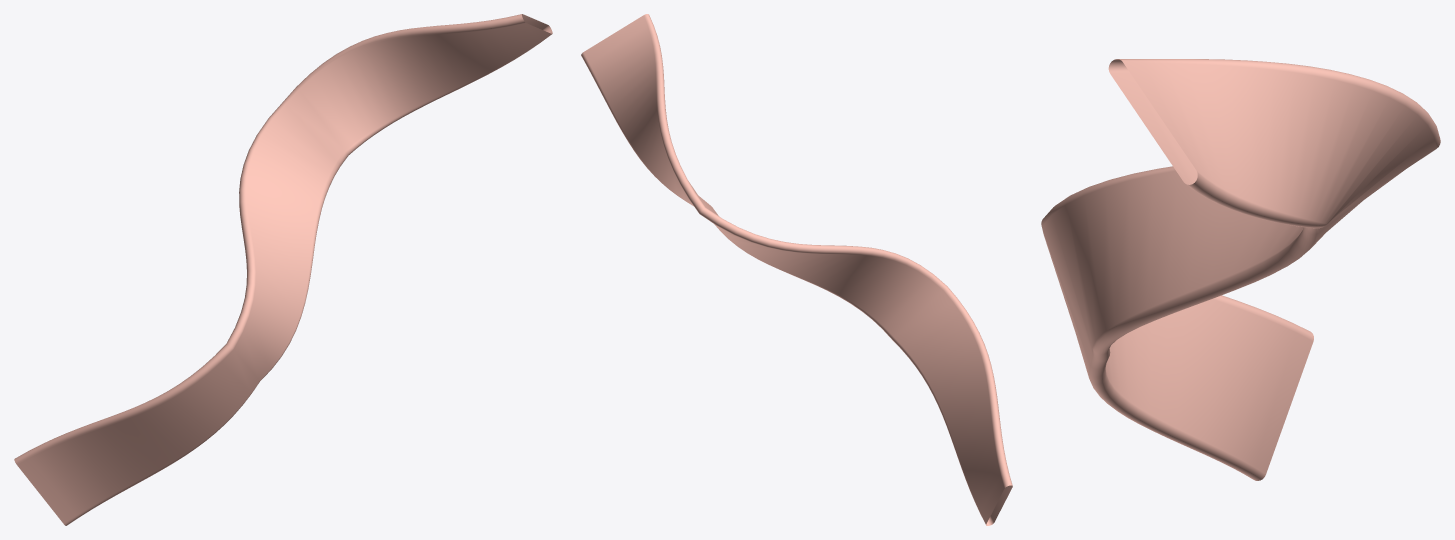
Rendered from ribbon.glb.
3 views of the same model, side by side, from view 1: azimuth 30°, elevation 25°; view 2: azimuth 150°, elevation 25°; view 3: azimuth 270°, elevation 25° (orthographic). The views are drawn at different scales.
Visible parts, largest first — view 1: Ribbon; view 2: Ribbon; view 3: Ribbon.
Part boxes in pixels (left/top/right/bottom): Ribbon: left=14, top=14, right=552, bottom=525; Ribbon: left=581, top=14, right=1012, bottom=525; Ribbon: left=1041, top=59, right=1440, bottom=480.
Bounding box in the file's own units: 1.4 × 1.15 × 0.5286.
